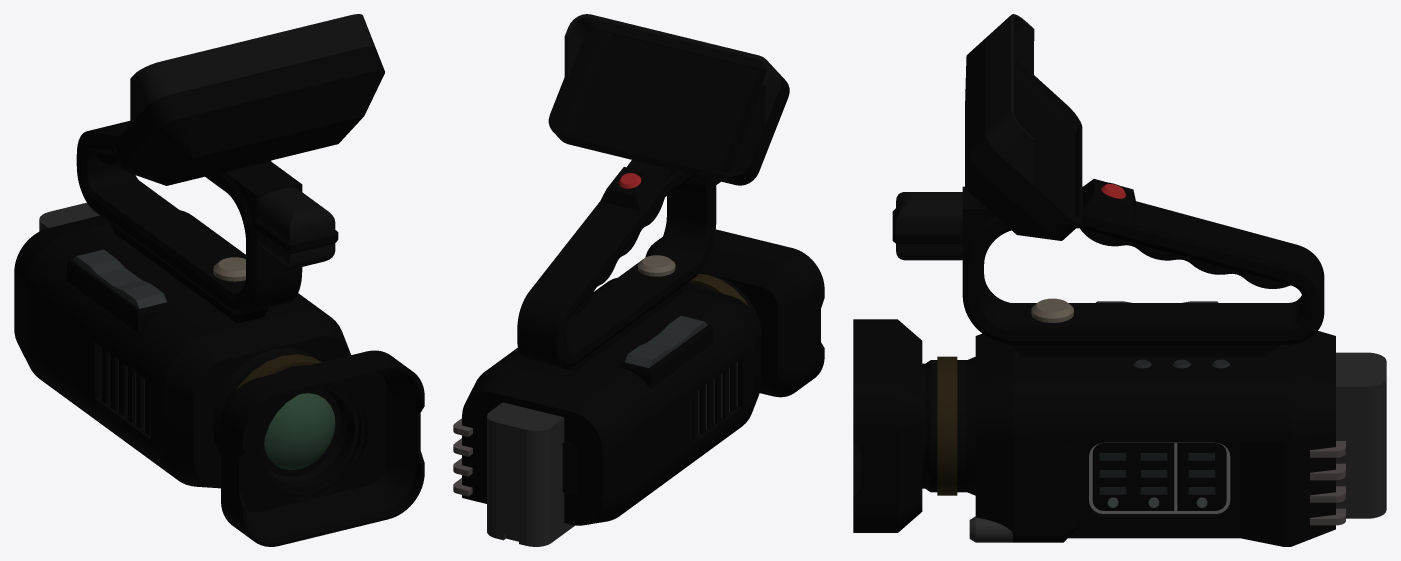
Rendered from VideoCam.glb.
3 renders of one model, left to right at view 1: azimuth 30°, elevation 25°; view 2: azimuth 150°, elevation 25°; view 3: azimuth 270°, elevation 25°, orthographic. The views are drawn at different scales.
Visible parts, largest first — view 1: Object_4, Object_11, Object_8, Object_17, Object_12, Object_18, Object_20, Object_3, Object_14, Object_19, Object_16; view 2: Object_4, Object_7, Object_11, Object_3, Object_8, Object_20, Object_5, Object_19, Object_14, Object_16; view 3: Object_4, Object_11, Object_3, Object_8, Object_17, Object_7, Object_18, Object_14, Object_15, Object_5, Object_2, Object_9 (+1 smaller).
Part boxes in pixels (<box>): Object_4: <box>14,46,384,488</box>; Object_11: <box>221,350,424,546</box>; Object_8: <box>130,14,375,124</box>; Object_17: <box>213,347,359,492</box>; Object_12: <box>264,393,335,470</box>; Object_18: <box>256,187,335,269</box>; Object_20: <box>73,249,166,308</box>; Object_3: <box>39,203,99,231</box>; Object_14: <box>236,354,321,389</box>; Object_19: <box>213,257,245,281</box>; Object_16: <box>100,347,144,429</box>; Object_4: <box>462,29,789,525</box>; Object_7: <box>573,34,760,170</box>; Object_11: <box>645,229,824,397</box>; Object_3: <box>487,402,574,546</box>; Object_8: <box>564,14,781,125</box>; Object_20: <box>625,315,707,367</box>; Object_5: <box>453,418,472,496</box>; Object_19: <box>638,255,675,276</box>; Object_14: <box>688,273,748,306</box>; Object_16: <box>698,362,737,434</box>; Object_4: <box>892,38,1335,546</box>; Object_11: <box>853,319,922,532</box>; Object_3: <box>1336,352,1386,518</box>; Object_8: <box>985,14,1034,185</box>; Object_17: <box>922,357,975,495</box>; Object_7: <box>1014,77,1075,214</box>; Object_18: <box>896,192,962,260</box>; Object_14: <box>937,356,957,495</box>; Object_15: <box>1099,359,1229,494</box>; Object_5: <box>1310,441,1345,525</box>; Object_2: <box>1089,442,1230,513</box>; Object_9: <box>969,516,1012,542</box>.
Size of the model in its own units: 74.1 by 136 by 150.
